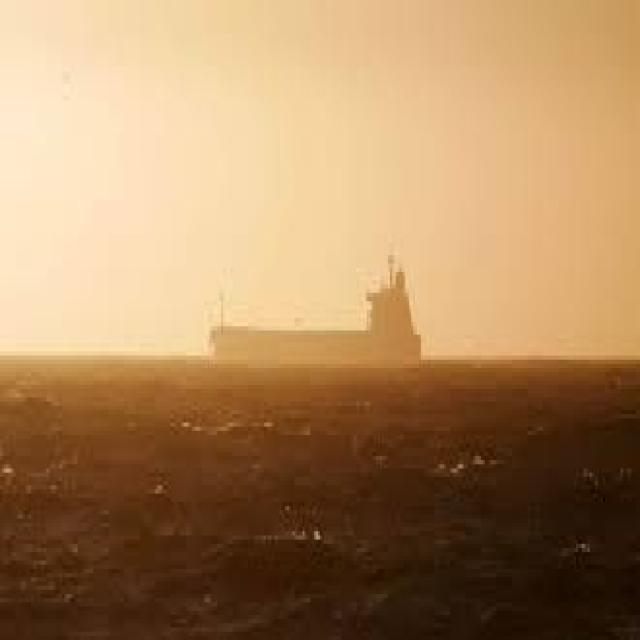cargoship: (200, 251, 420, 368)
